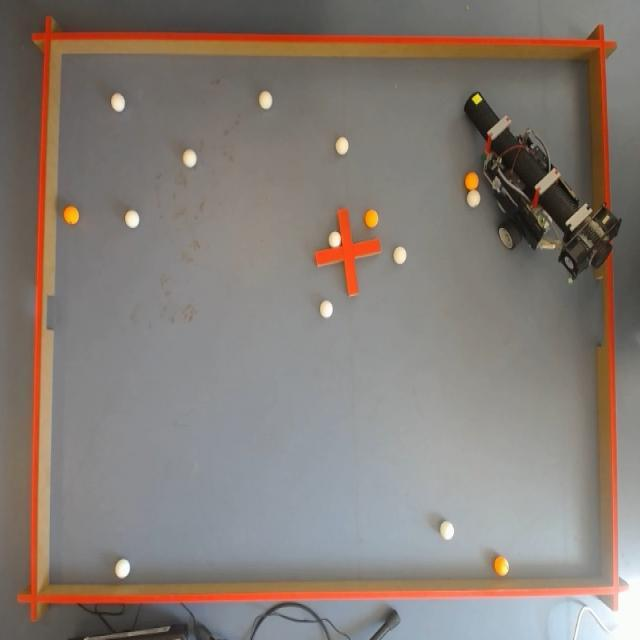orange: (493, 554, 511, 576), (464, 169, 478, 189), (63, 208, 78, 224), (366, 208, 378, 228)
robot: (467, 106, 637, 292)
white: (115, 556, 132, 580), (112, 92, 126, 114), (184, 150, 198, 170), (442, 518, 454, 540), (260, 90, 273, 110), (394, 244, 407, 264), (319, 298, 332, 318), (468, 188, 480, 208), (125, 212, 138, 230), (336, 136, 348, 154), (330, 230, 340, 248)
